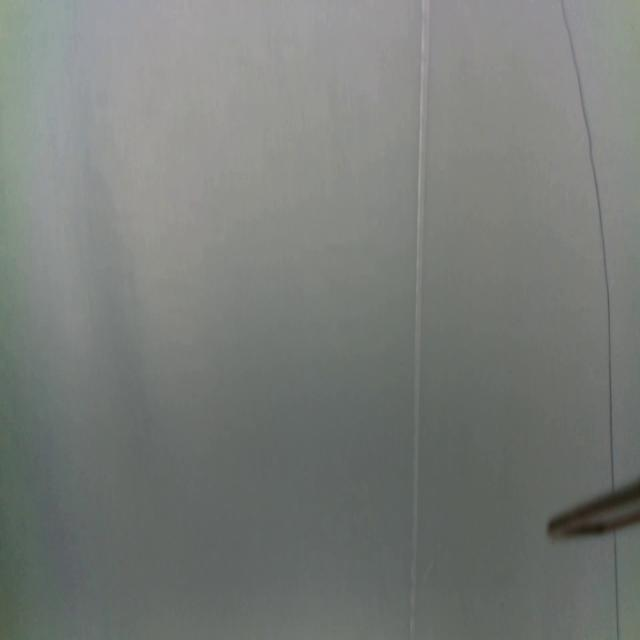crease: (560, 0, 616, 490), (409, 0, 431, 640), (611, 533, 622, 640)
